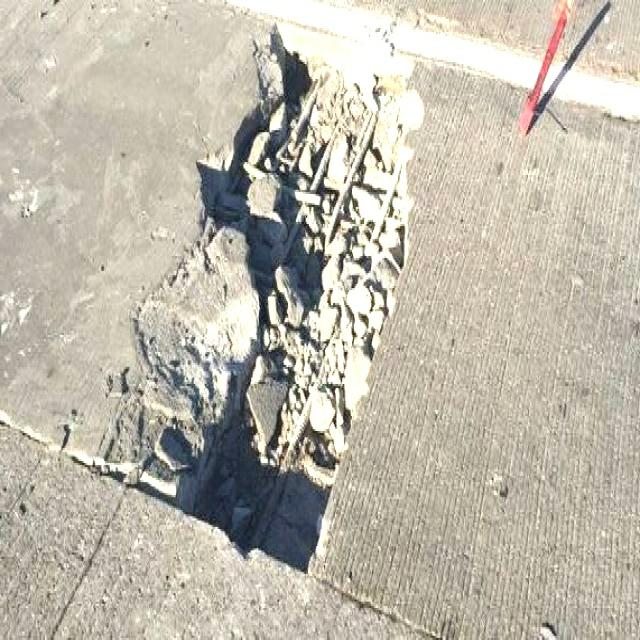Pothole: (161, 15, 420, 580)
